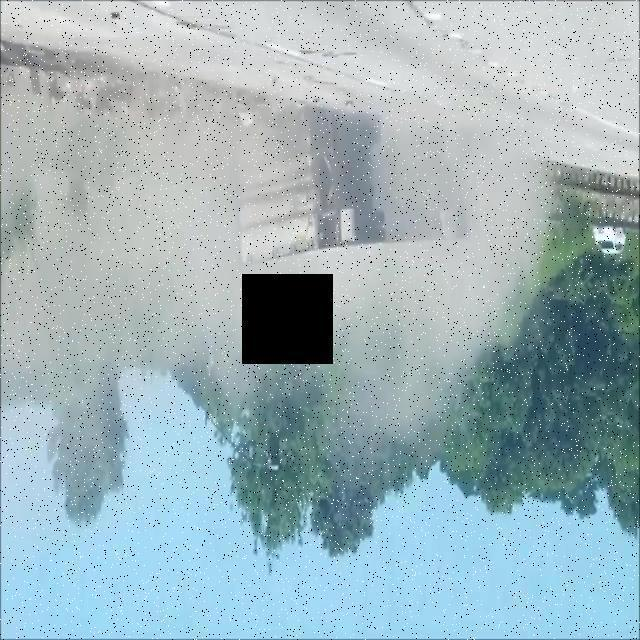person: (210, 90, 450, 316)
